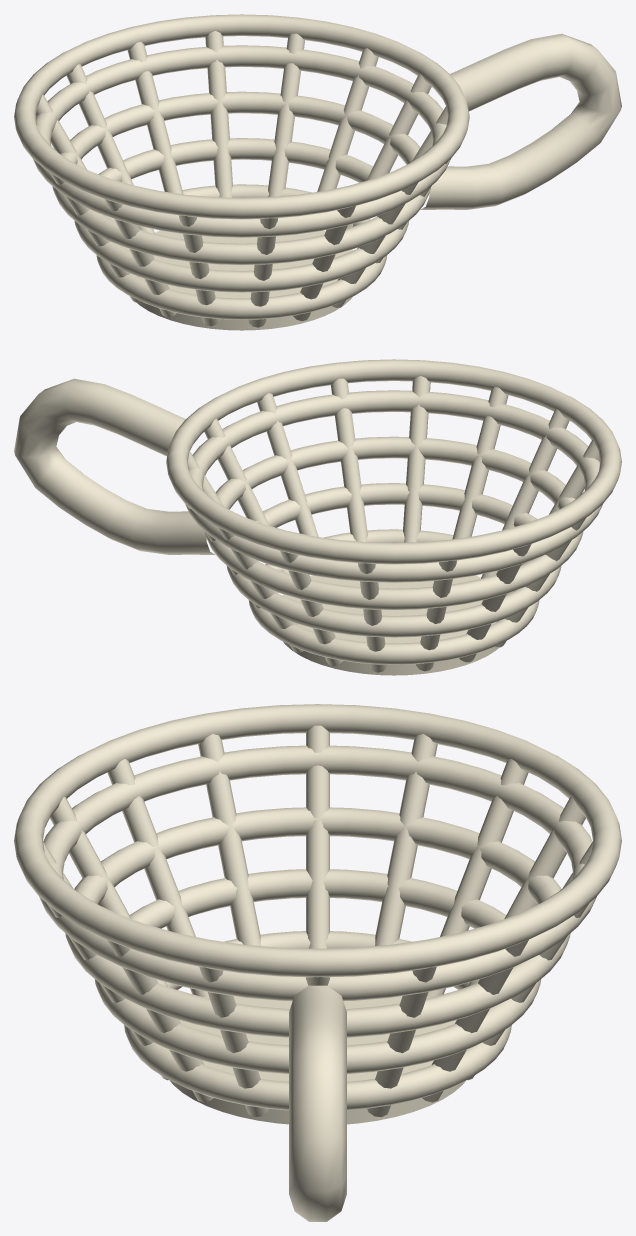
The model's file is ceramics-pottery-studio-ceramic-colander-e858c8f1__29521.glb.
The picture shows the model from 3 angles, top to bottom: view 1: azimuth 30°, elevation 25°; view 2: azimuth 150°, elevation 25°; view 3: azimuth 270°, elevation 25°; orthographic projection. The views are drawn at different scales.
Visible parts, largest first — view 1: ceramic-colander; view 2: ceramic-colander; view 3: ceramic-colander.
Boxes of the visible parts, box(x1,y1,x2,y2) form: ceramic-colander: box(14, 14, 621, 330); ceramic-colander: box(14, 359, 621, 675); ceramic-colander: box(14, 704, 621, 1221).
Bounding box in the file's own units: 0.733 × 0.2114 × 0.504.
